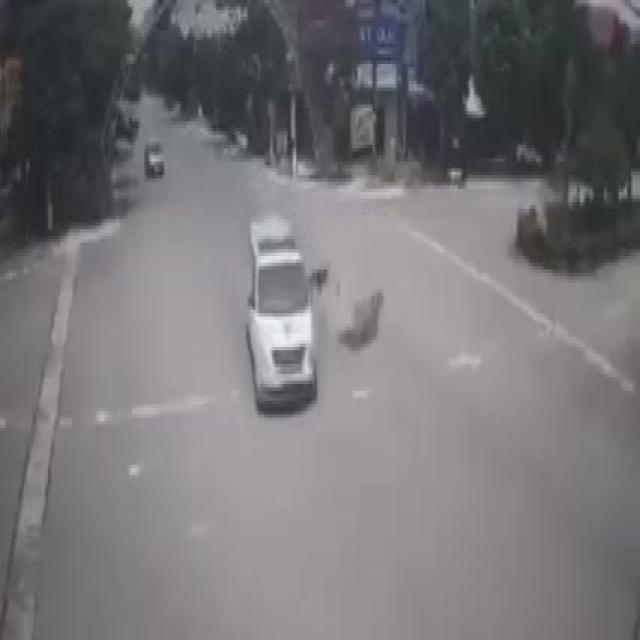multiple_accident: (244, 207, 384, 419)
